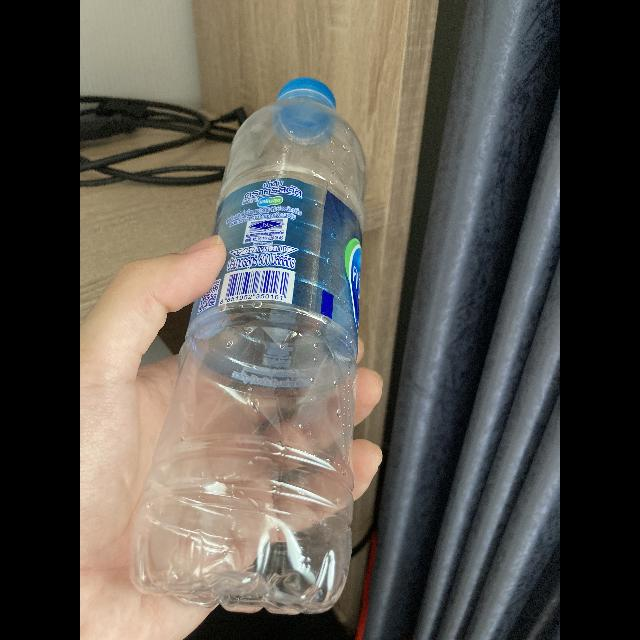plastic_bottle: (128, 72, 370, 622)
plastic_bottle_cap: (278, 76, 336, 140)
